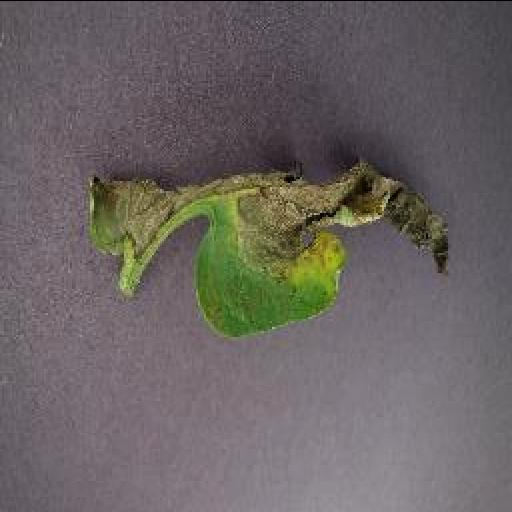disease_tomato: (86, 150, 450, 334)
